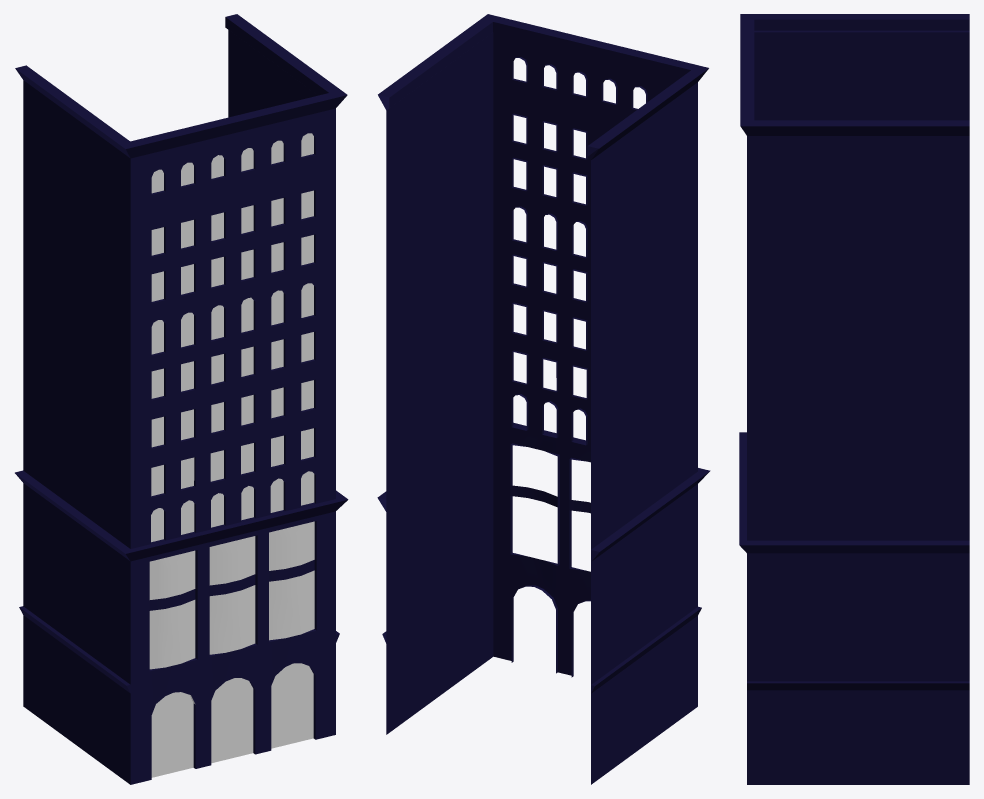
Rendered from building_01.gltf.
3 views of the same model, side by side, from view 1: azimuth 30°, elevation 25°; view 2: azimuth 150°, elevation 25°; view 3: azimuth 270°, elevation 25° (orthographic). The views are drawn at different scales.
Parts seen in each view (by area): view 1: building_01; view 2: building_01; view 3: building_01.
Part boxes in pixels (box(x1,y1,x2,y2)): building_01: box(15, 14, 348, 784); building_01: box(377, 14, 710, 784); building_01: box(739, 14, 969, 784).
Bounding box in the file's own units: 1.75 × 4.8 × 1.51.
